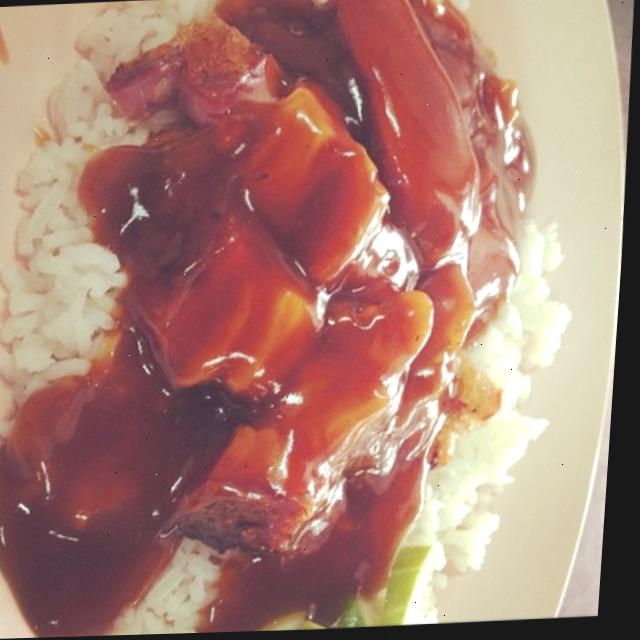猪肉菜式: (0, 0, 622, 626)
